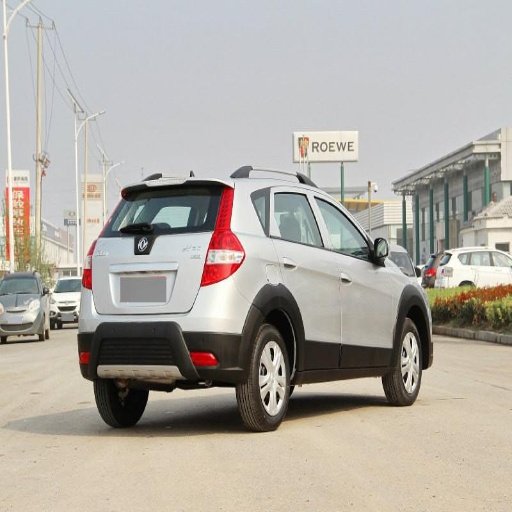back_bumper: (80, 275, 251, 382)
back_right_door: (269, 187, 341, 367)
tailgate: (92, 232, 205, 313)
